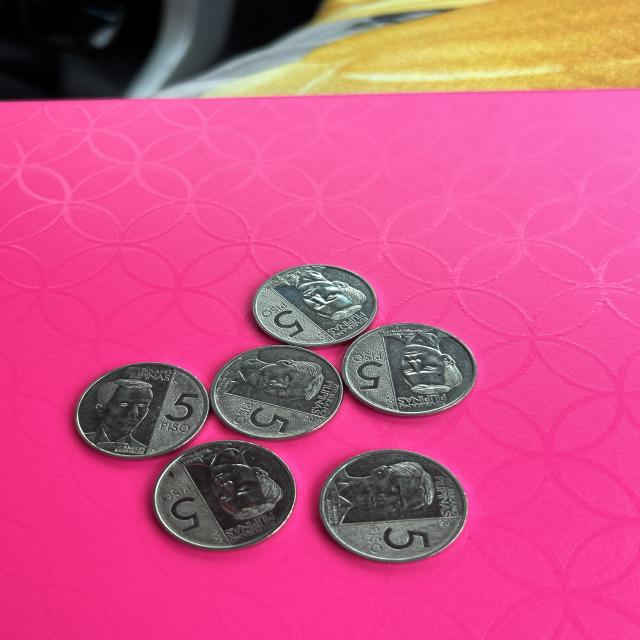5_New_Front: (158, 482, 210, 536), (362, 521, 438, 554), (346, 353, 393, 403), (234, 398, 292, 436), (258, 301, 308, 339), (160, 392, 203, 434)
